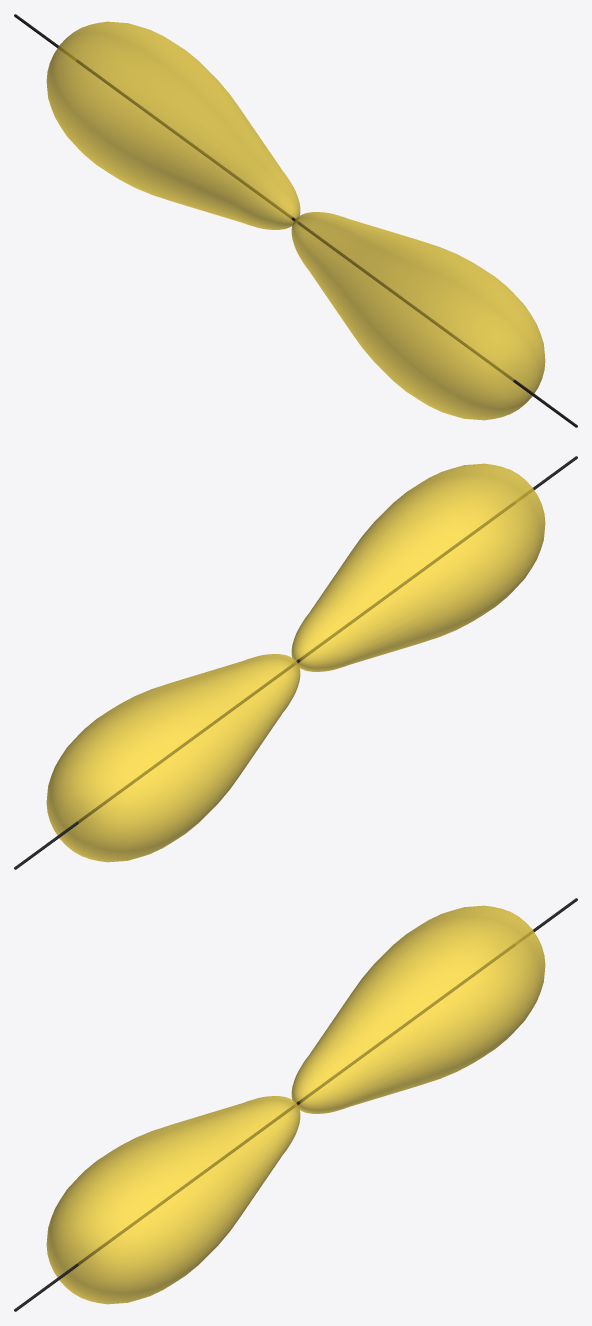
File: sp_hybridization.glb
3 views of the same model, one above another, from view 1: azimuth 30°, elevation 25°; view 2: azimuth 150°, elevation 25°; view 3: azimuth 330°, elevation 25° (orthographic).
Parts seen in each view (by area): view 1: Cylinder, Cylinder.001, Cylinder.003; view 2: Cylinder.001, Cylinder, Cylinder.003; view 3: Cylinder, Cylinder.001, Cylinder.003.
Part boxes in pixels (x1,y1,x2,y2): Cylinder: (46,21,300,229); Cylinder.001: (291,212,545,420); Cylinder.003: (14,14,577,427); Cylinder.001: (291,463,545,671); Cylinder: (46,654,300,862); Cylinder.003: (14,456,577,869); Cylinder: (291,905,545,1113); Cylinder.001: (46,1096,300,1304); Cylinder.003: (14,898,577,1311).
Bounding box in the file's own units: 0.3361 × 0.3358 × 2.59.
